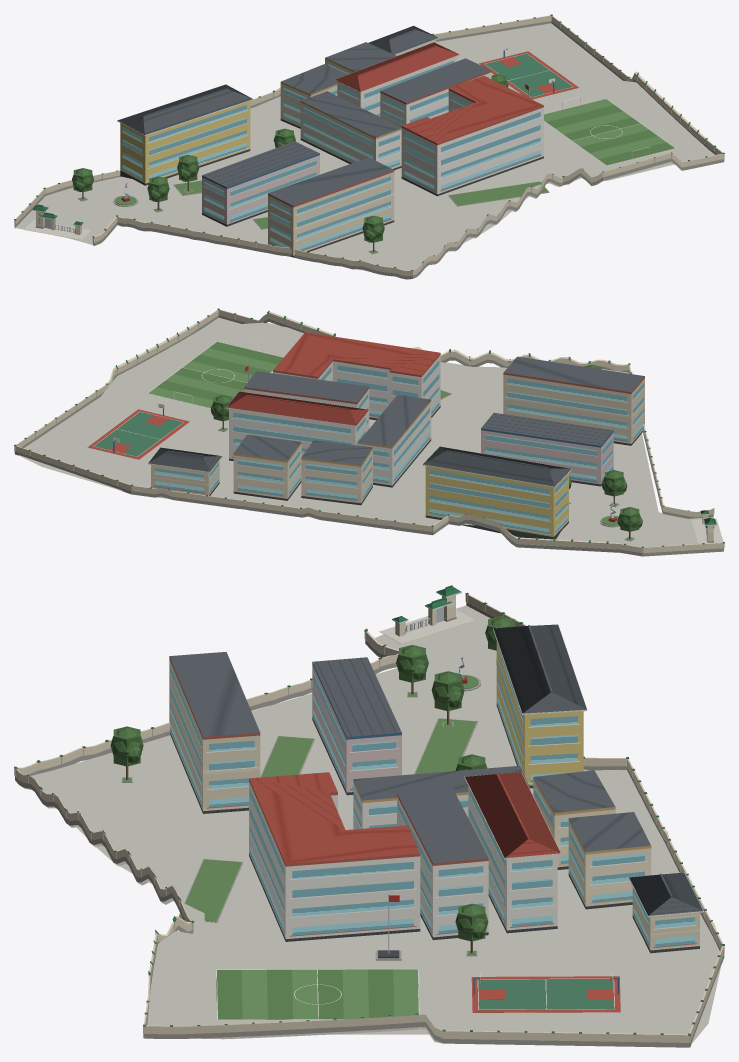
File: longyin_primary.glb
3 renders of one model, top to bottom at view 1: azimuth 30°, elevation 25°; view 2: azimuth 150°, elevation 25°; view 3: azimuth 270°, elevation 25°, orthographic. The views are drawn at different scales.
Visible parts, largest first — view 1: lod0_atlas, lod0_lit, lod1_atlas; view 2: lod0_atlas, lod0_lit, lod1_atlas; view 3: lod0_atlas, lod0_lit, lod1_atlas.
Boxes of the visible parts, <box> form: lod0_atlas: <box>14,14,724,279</box>; lod0_lit: <box>122,60,540,250</box>; lod1_atlas: <box>16,15,723,276</box>; lod0_atlas: <box>14,308,724,556</box>; lod0_lit: <box>155,360,643,534</box>; lod1_atlas: <box>15,309,723,552</box>; lod0_atlas: <box>14,585,724,1047</box>; lod0_lit: <box>170,643,694,946</box>; lod1_atlas: <box>15,594,723,1042</box>.
Size of what is drawn, in the model's own units: 176 by 19.61 by 120.
2 materials, 2 textured.
